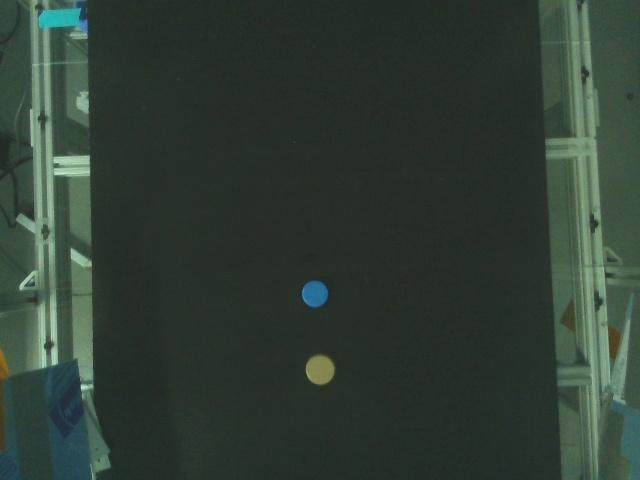plastic: (305, 353, 334, 385), (303, 281, 328, 308)
